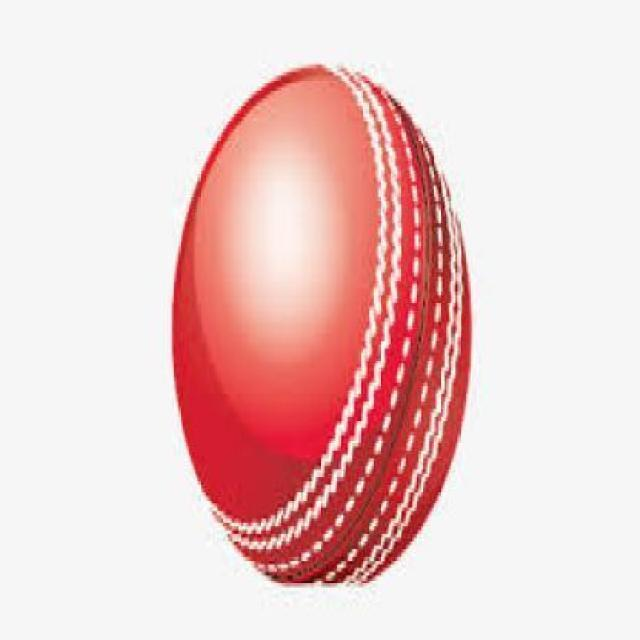-: (173, 78, 476, 593)
